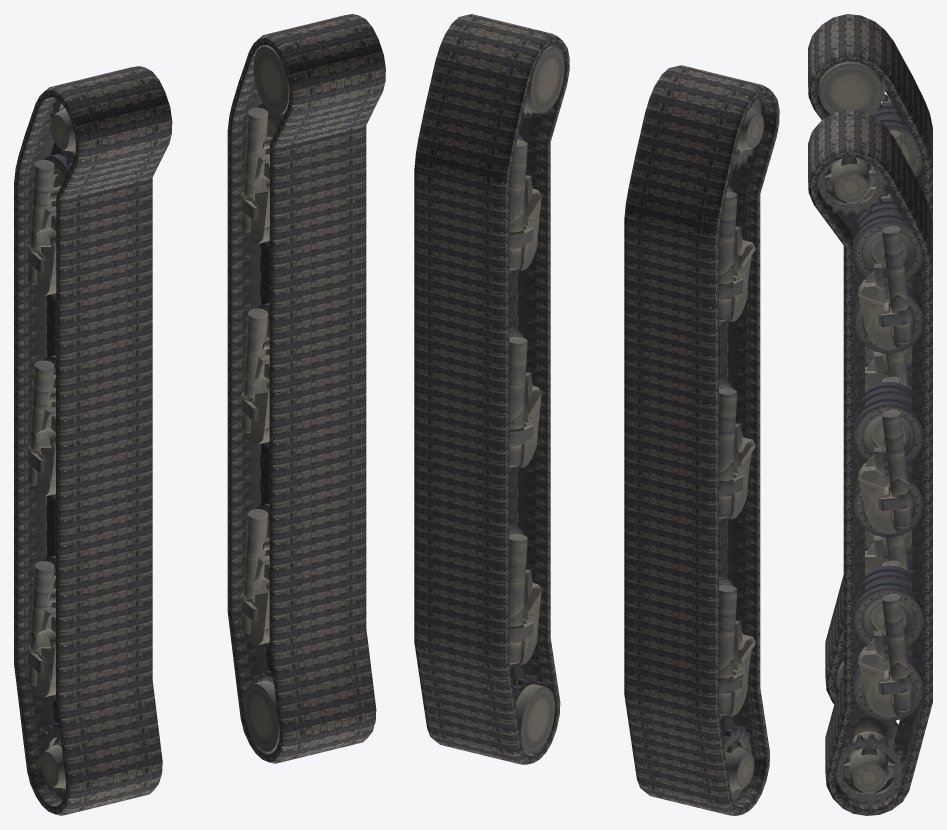
File: Chassis.glb
The picture shows the model from 3 angles, left to right: view 1: azimuth 30°, elevation 25°; view 2: azimuth 150°, elevation 25°; view 3: azimuth 270°, elevation 25°; orthographic projection. The views are drawn at different scales.
Visible parts, largest first — view 1: set_1_group_0, set_0_group_0, set_3_group_0, set_2_group_0; view 2: set_1_group_0, set_0_group_0, set_3_group_0, set_2_group_0; view 3: set_3_group_0, set_0_group_0, set_1_group_0, set_2_group_0.
Part boxes in pixels (x1,y1,x2,y2): set_1_group_0: (14,66,172,815); set_0_group_0: (227,14,385,763); set_3_group_0: (240,45,289,751); set_2_group_0: (27,99,75,800); set_1_group_0: (624,65,779,815); set_0_group_0: (414,14,569,764); set_3_group_0: (509,46,564,753); set_2_group_0: (719,98,764,801); set_3_group_0: (817,157,923,802); set_0_group_0: (808,109,932,815); set_1_group_0: (808,14,932,704); set_2_group_0: (817,61,922,689).
Bounding box in the file's own units: 3.26 × 7.32 × 1.24.
Materials: 4 (4 with a texture image).
